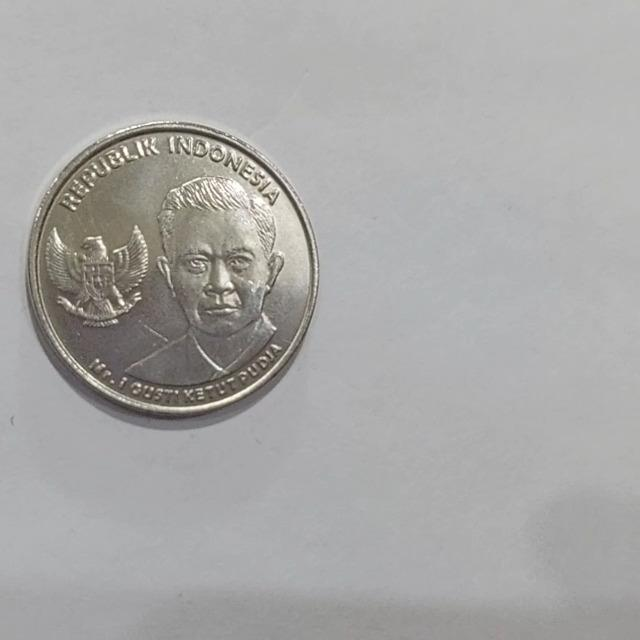Rp100: (24, 119, 321, 421), (119, 173, 287, 387), (41, 222, 150, 328)
